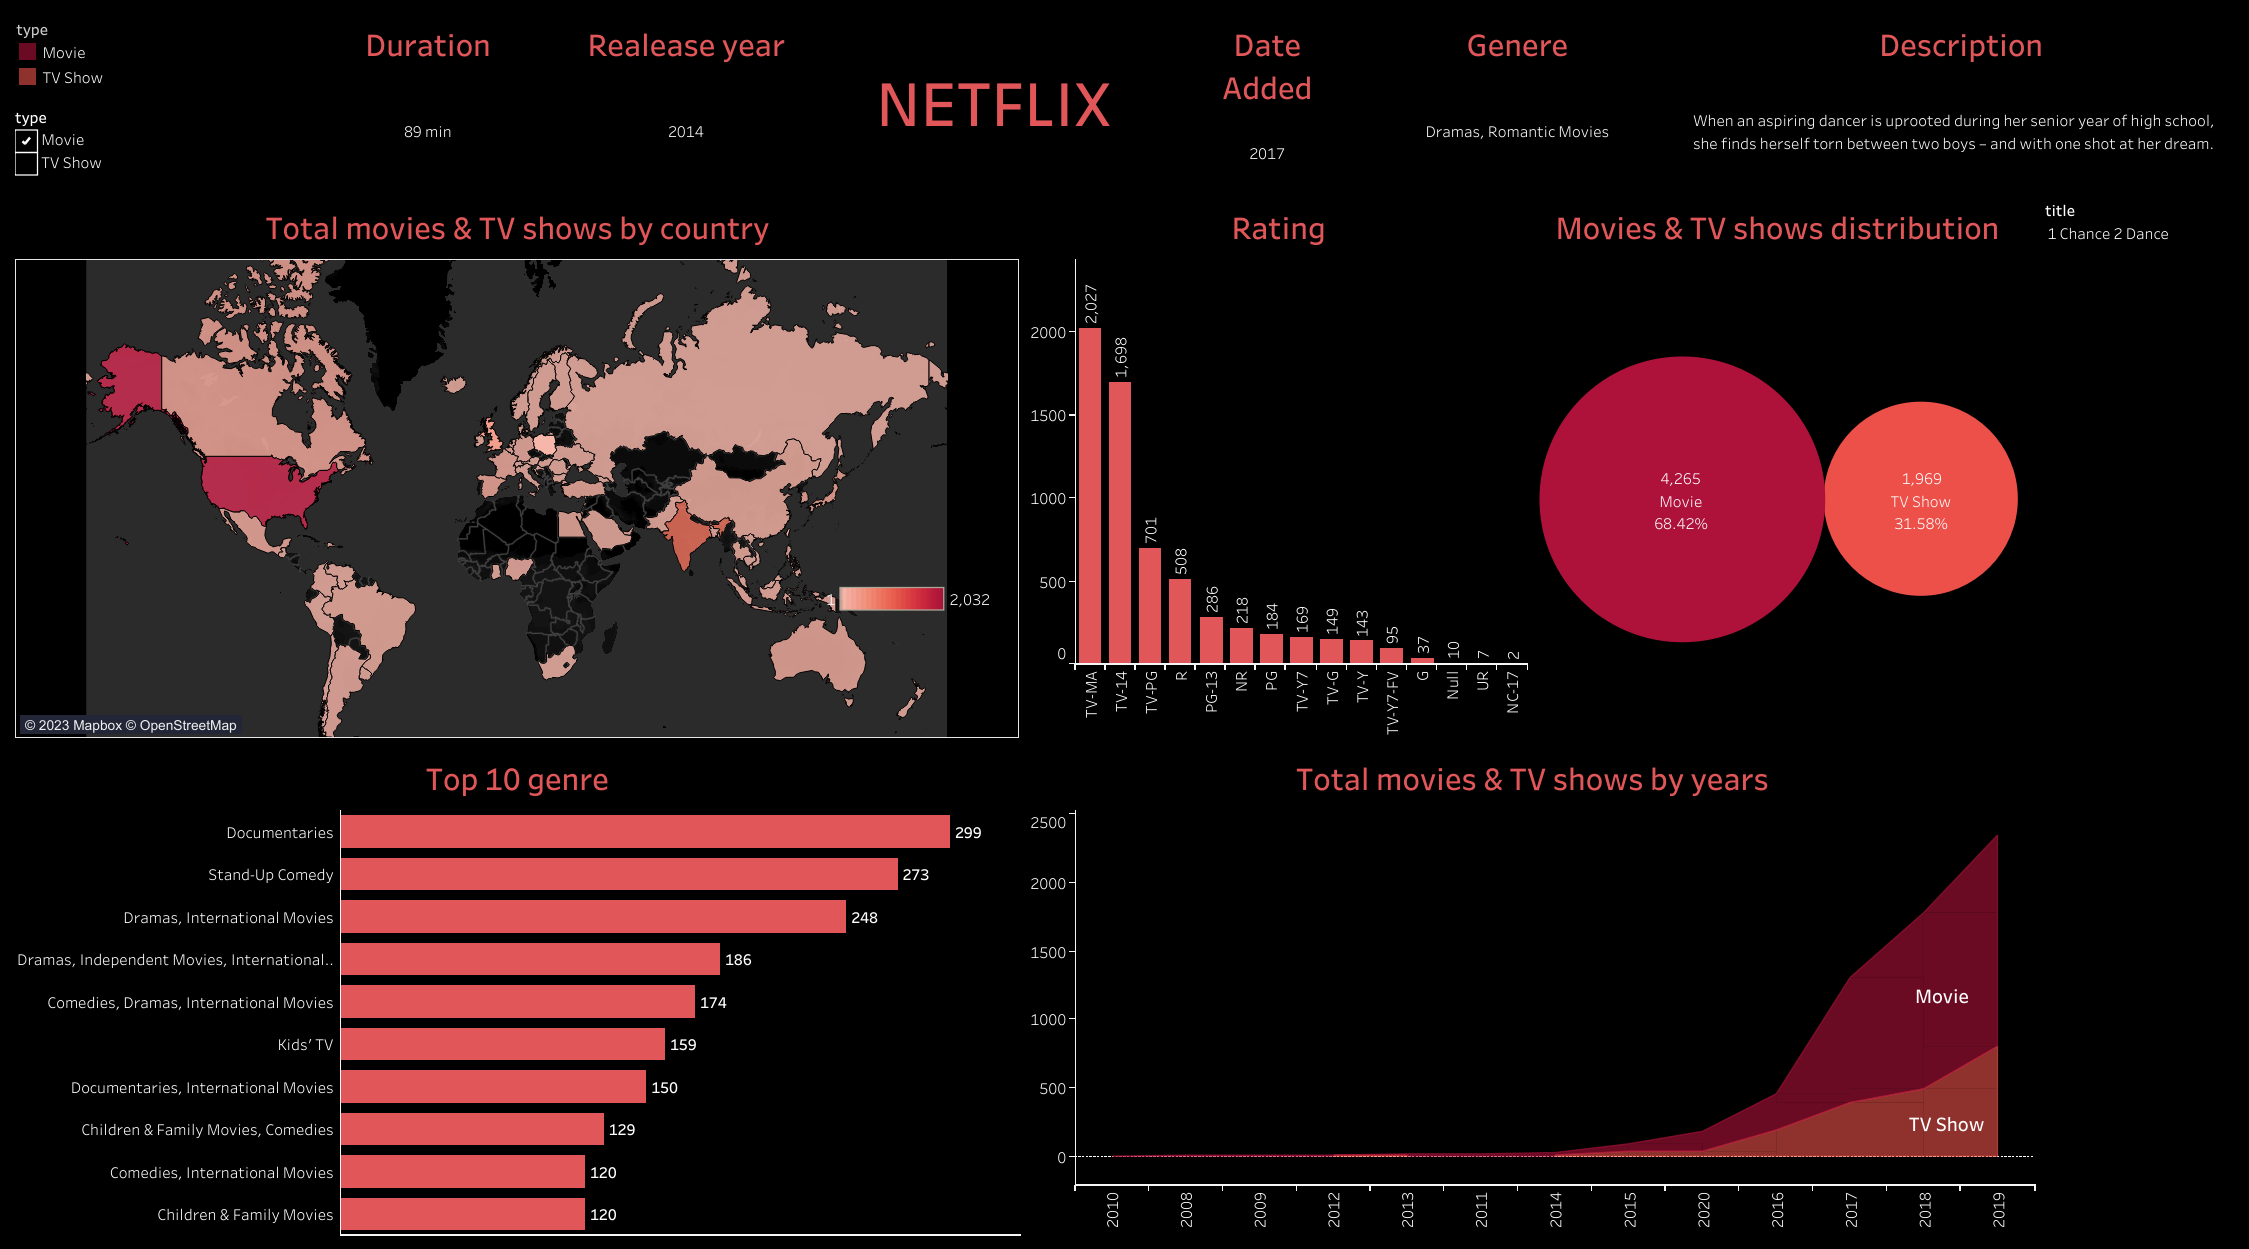

The dashboard page shown, as its layout file describes it:
{"tool":"tableau","page":{"name":"Dashboard 1","canvas":[1800,1000],"ordinal":0},"visuals":[{"type":"legend","title":"Total movies & TV shows by years","param":"[federated.1g1e6ia0br608e13pek2f0khqlk0].[none:type:nk]","box":[8,8,223,71]},{"type":"worksheet","title":"Duration","mark":"Automatic","box":[231,8,223,146]},{"type":"worksheet","title":"Realease year","mark":"Automatic","box":[454,8,190,146]},{"type":"text","box":[644,8,302,146]},{"type":"worksheet","title":"Date Added","mark":"Automatic","box":[946,8,136,146]},{"type":"worksheet","title":"Genere","mark":"Automatic","box":[1082,8,264,146]},{"type":"worksheet","title":"Description","mark":"Automatic","box":[1346,8,446,146]},{"type":"filter","title":"Description","param":"[federated.1g1e6ia0br608e13pek2f0khqlk0].[none:type:nk]","box":[8,79,223,75]},{"type":"worksheet","title":"Total movies & TV shows by country","mark":"Multipolygon","box":[8,154,812,440.8]},{"type":"worksheet","title":"Rating","mark":"Automatic","rows":["show_id"],"cols":["rating"],"box":[820,154,406,440.8]},{"type":"worksheet","title":"Movies & TV shows distribution","mark":"Circle","box":[1226,154,406,440.8]},{"type":"filter","title":"Description","param":"[federated.1g1e6ia0br608e13pek2f0khqlk0].[none:title:nk]","box":[1632,154,160,61]},{"type":"legend","title":"Total movies & TV shows by country","param":"[federated.1g1e6ia0br608e13pek2f0khqlk0].[ctd:show_id:qk]","box":[657,465.6,140,47.8]},{"type":"worksheet","title":"Top 10 genre","mark":"Automatic","rows":["listed_in"],"cols":["show_id"],"box":[8,594.8,812,397.2]},{"type":"worksheet","title":"Total movies & TV shows by years","mark":"Area","rows":["show_id"],"cols":["date_added"],"box":[820,594.8,812,397.2]}]}

Visuals, with their boxes in screenshot pixels (x1, y1, x2, y2), scaled from the page's 1800x1000 canvas onto the 2249x1249 screenshot:
"Total movies & TV shows by years" legend: <region>10, 10, 289, 99</region>
"Duration" worksheet: <region>289, 10, 567, 192</region>
"Realease year" worksheet: <region>567, 10, 805, 192</region>
text: <region>805, 10, 1182, 192</region>
"Date Added" worksheet: <region>1182, 10, 1352, 192</region>
"Genere" worksheet: <region>1352, 10, 1682, 192</region>
"Description" worksheet: <region>1682, 10, 2239, 192</region>
"Description" filter: <region>10, 99, 289, 192</region>
"Total movies & TV shows by country" worksheet (Multipolygon marks): <region>10, 192, 1025, 743</region>
"Rating" worksheet: <region>1025, 192, 1532, 743</region>
"Movies & TV shows distribution" worksheet (Circle marks): <region>1532, 192, 2039, 743</region>
"Description" filter: <region>2039, 192, 2239, 269</region>
"Total movies & TV shows by country" legend: <region>821, 582, 996, 641</region>
"Top 10 genre" worksheet: <region>10, 743, 1025, 1239</region>
"Total movies & TV shows by years" worksheet (Area marks): <region>1025, 743, 2039, 1239</region>
